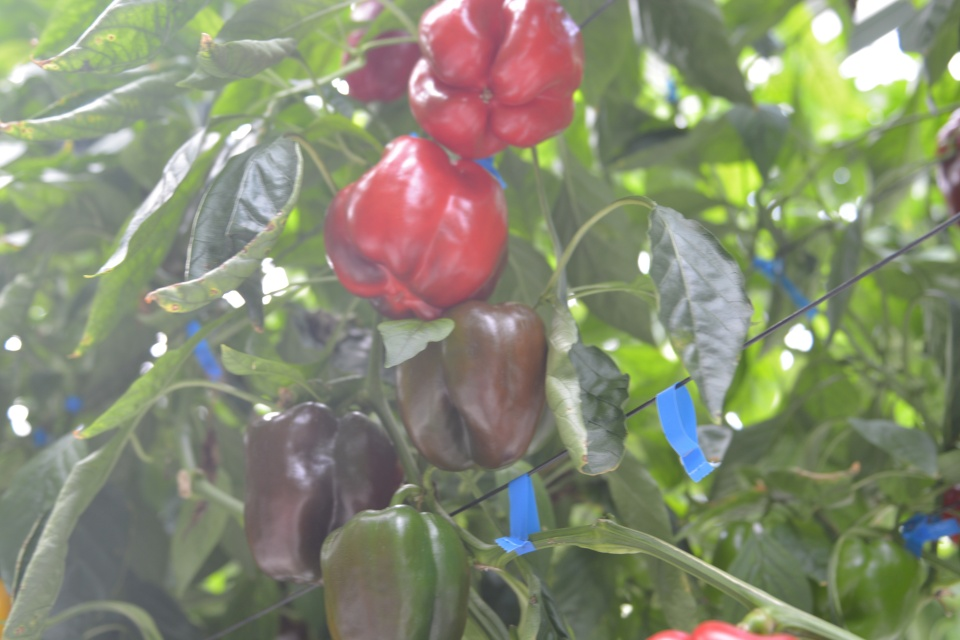fruit: (320, 132, 511, 320), (240, 400, 402, 584), (407, 0, 586, 159), (392, 296, 549, 474), (316, 503, 467, 640), (830, 523, 923, 640), (333, 0, 426, 104)
